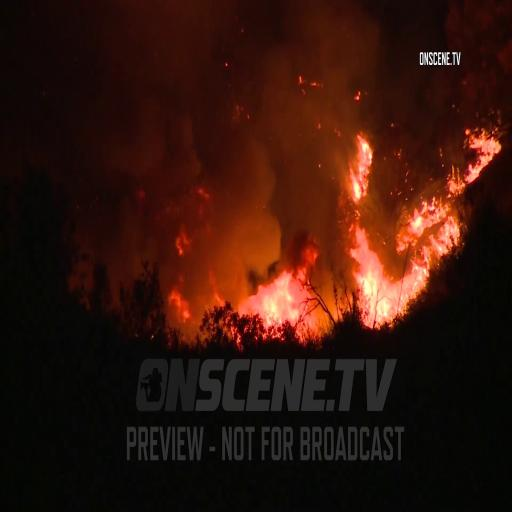fire: (334, 159, 386, 341), (402, 187, 456, 297), (246, 262, 310, 328)
